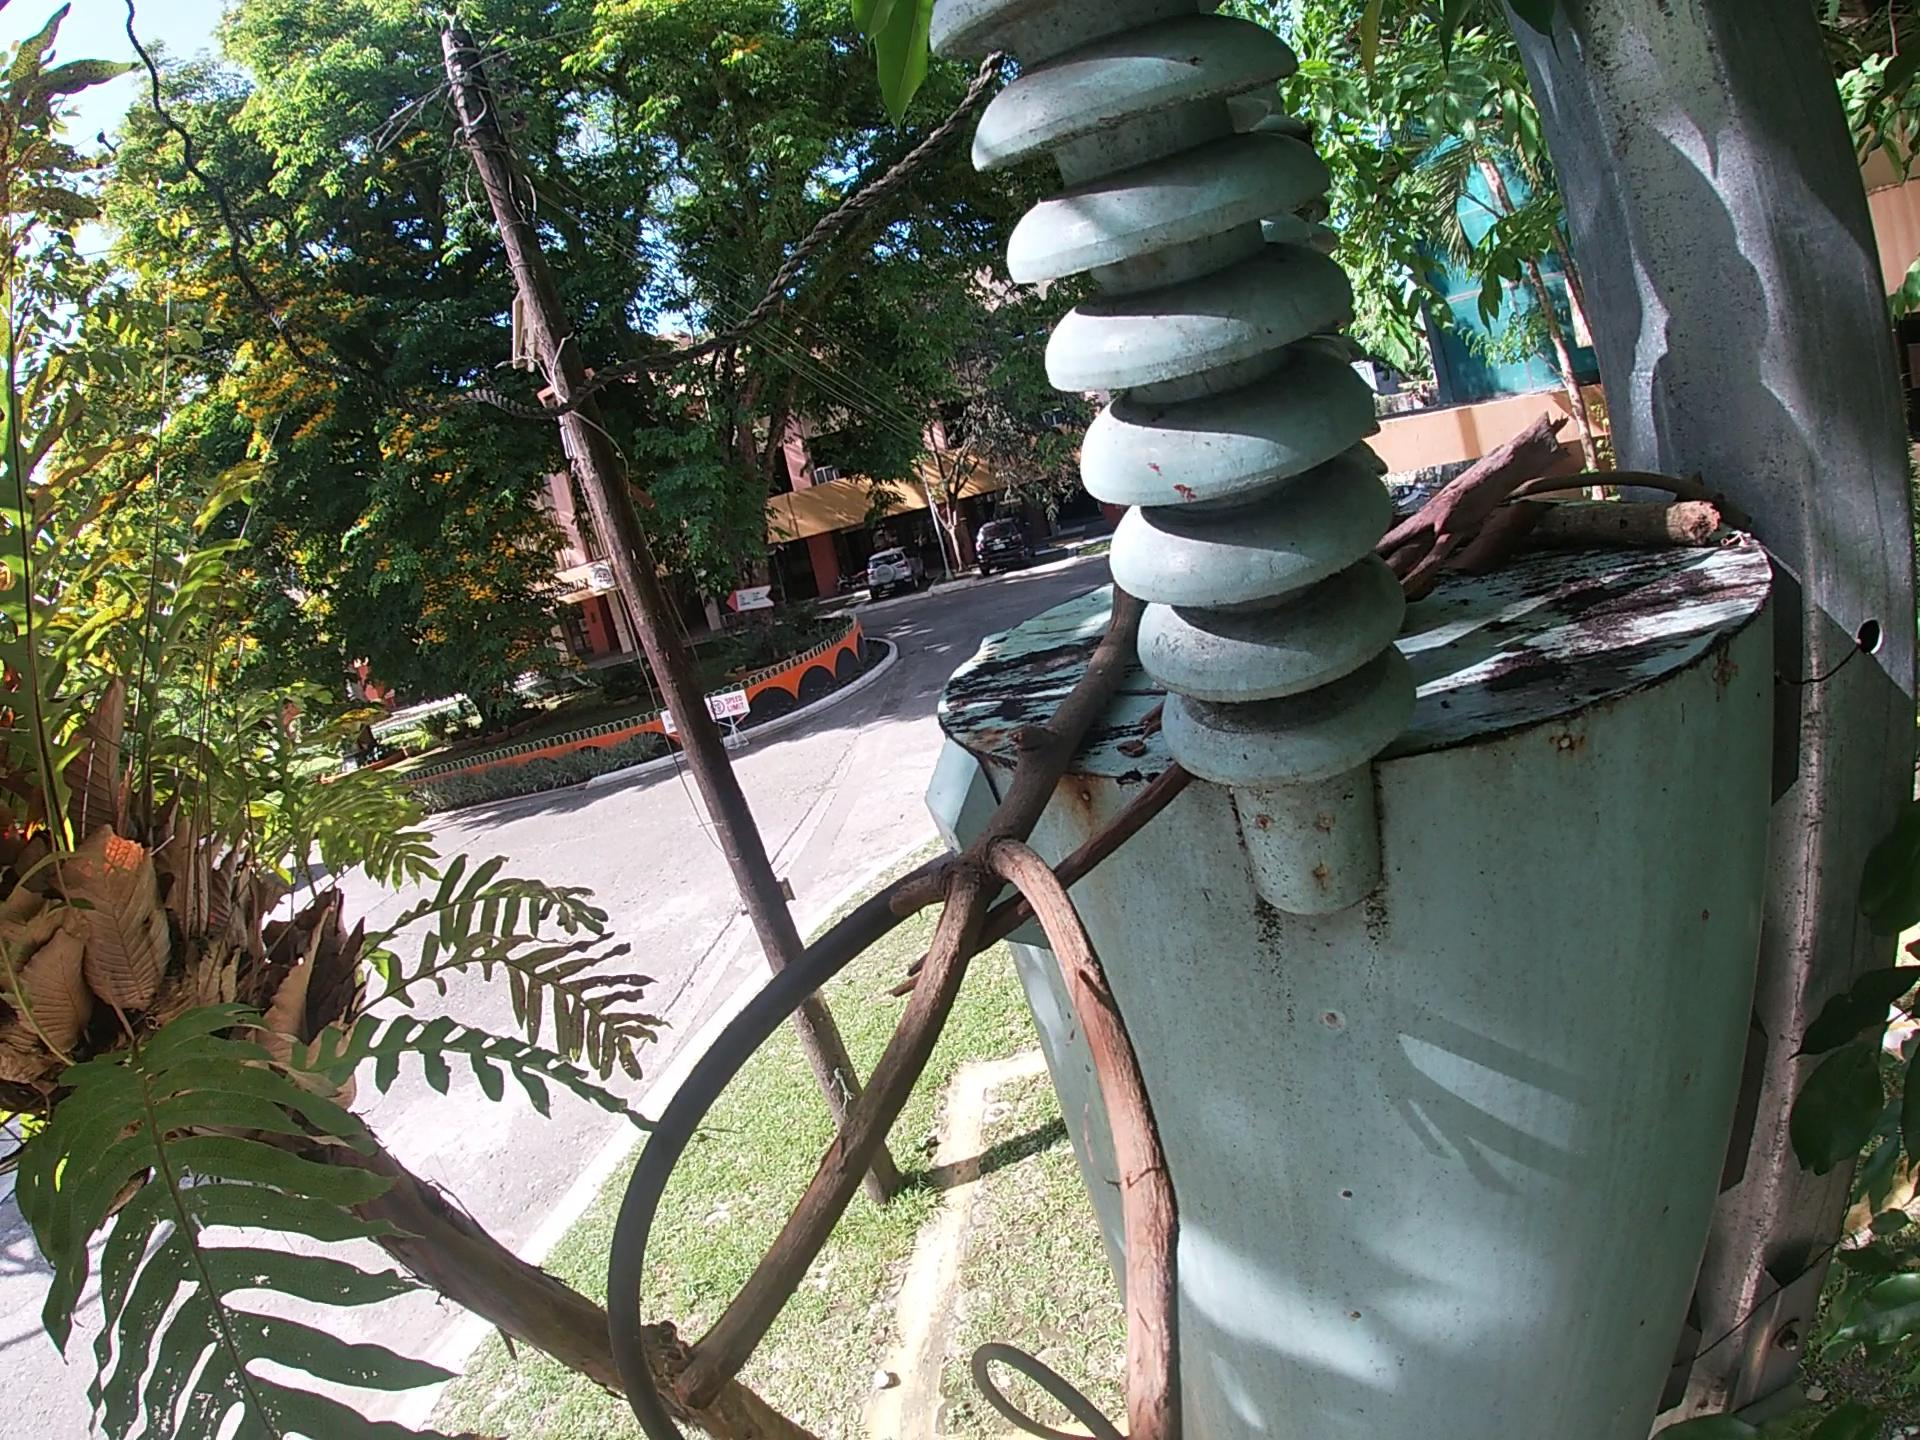leaf: (1448, 495, 1565, 584)
tree branch: (655, 572, 1203, 1438), (890, 755, 1203, 1004), (1376, 408, 1577, 610), (1534, 493, 1720, 560), (1504, 464, 1757, 510)
